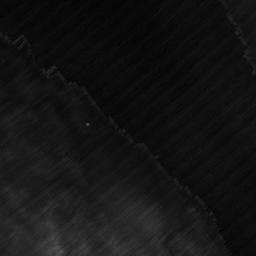Target: (84, 122, 90, 127)
